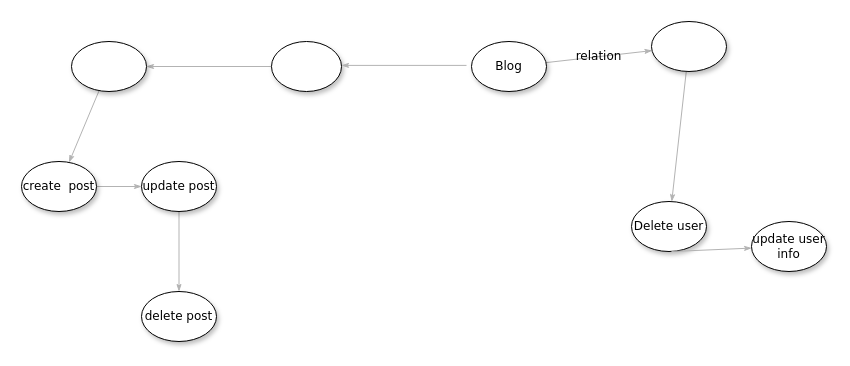
Some shapes in this 850 by 366 pixel diagram are drawn without their labels. The shapes that lost their labels are listed below. From the top down, each one's centre as x and y in pixels, then its label:
point 109,67: post
point 307,67: user
point 689,47: Register user
